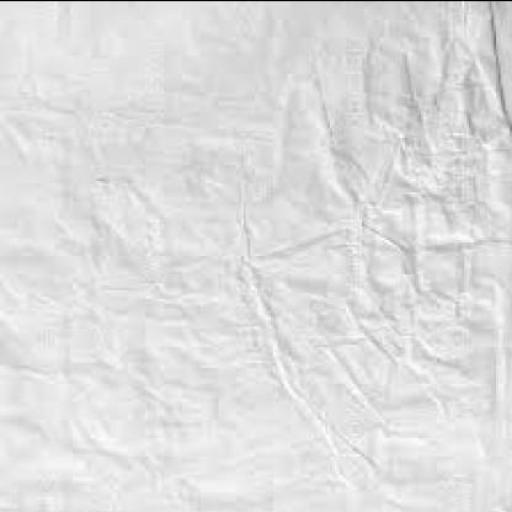paper: (0, 1, 511, 510)
